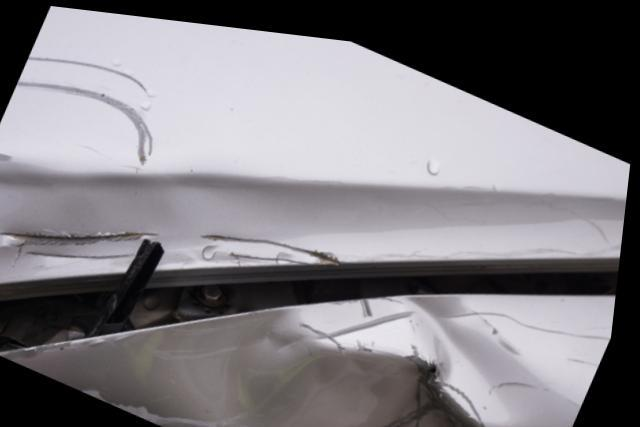dent: (184, 282, 552, 427), (0, 162, 207, 279)
dislocated part: (0, 232, 625, 359)
scratch: (16, 47, 158, 166), (482, 299, 618, 354), (208, 227, 351, 259)
